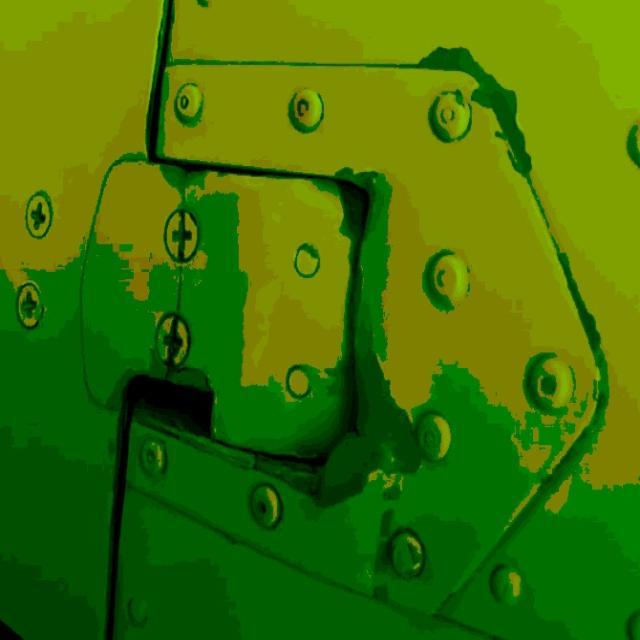crack: (165, 265, 191, 313)
